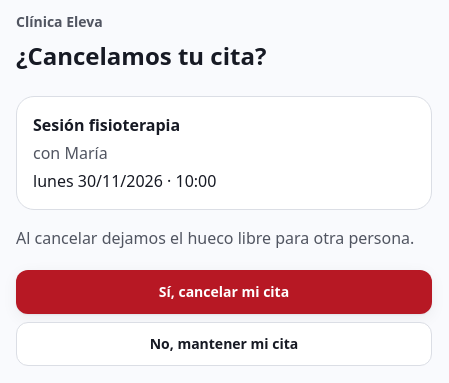
Test case: PantallaCancelacion (003) › [003][FR-012][US2-AC3] «No, mantener mi cita» no envía nada
The image size is (449, 383).
Click the button "No, mantener mi cita" at (224, 344), box x1=16 y1=322 x2=432 y2=366
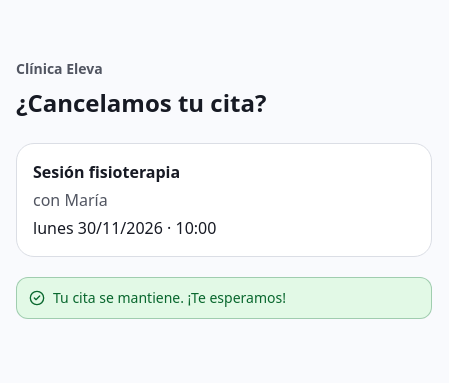
expect the text "Tu cita se mantiene. ¡Te esperamos!" is shown: met, box x1=53 y1=288 x2=286 y2=308
